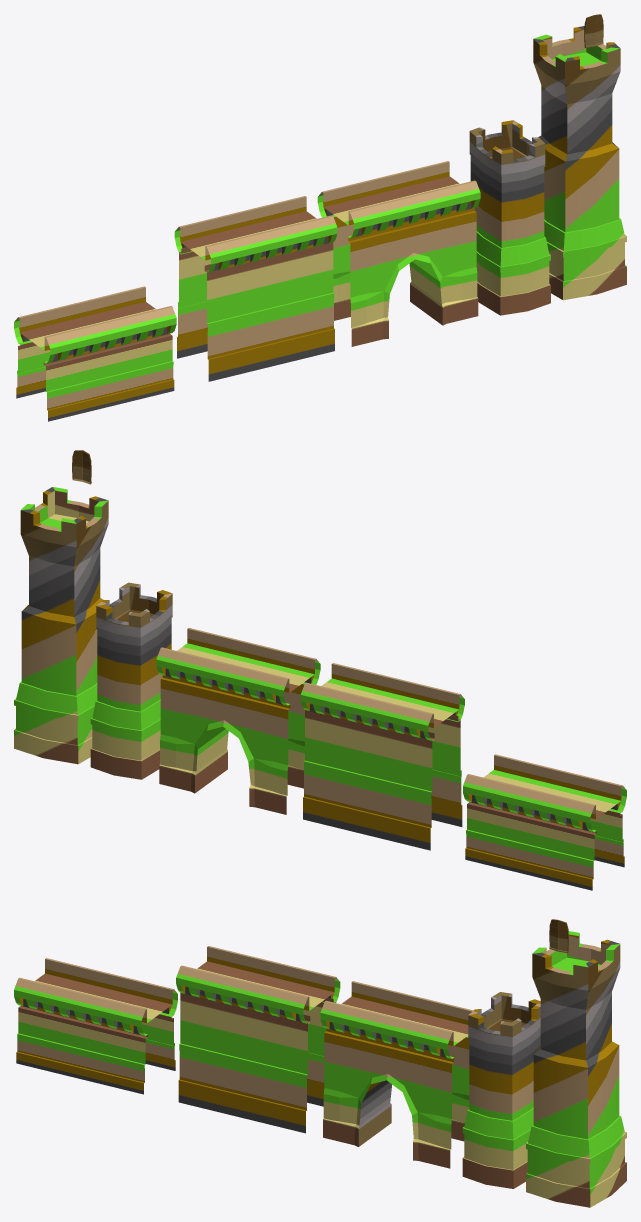
The model's file is Mesh_Walls.fbx.
The picture shows the model from 3 angles, top to bottom: view 1: azimuth 30°, elevation 25°; view 2: azimuth 150°, elevation 25°; view 3: azimuth 330°, elevation 25°; orthographic projection.
Visible parts, largest first — view 1: Wall_Big, Wall_Gate, Wall_Tower, Wall_Small, Wall_Pillar, Wall_Tower_Window; view 2: Wall_Big, Wall_Gate, Wall_Tower, Wall_Small, Wall_Pillar, Wall_Tower_Window; view 3: Wall_Big, Wall_Tower, Wall_Gate, Wall_Small, Wall_Pillar, Wall_Tower_Window.
Boxes of the visible parts, box(x1,y1,x2,y2) form: Wall_Big: box(174, 196, 337, 381); Wall_Gate: box(317, 161, 480, 346); Wall_Tower: box(533, 26, 626, 300); Wall_Small: box(14, 286, 176, 421); Wall_Pillar: box(469, 120, 550, 315); Wall_Tower_Window: box(584, 14, 603, 47); Wall_Big: box(300, 663, 464, 850); Wall_Gate: box(156, 628, 320, 814); Wall_Tower: box(14, 487, 108, 764); Wall_Small: box(463, 754, 626, 890); Wall_Pillar: box(90, 582, 172, 779); Wall_Tower_Window: box(72, 450, 91, 484); Wall_Big: box(176, 946, 340, 1133); Wall_Tower: box(526, 931, 626, 1207); Wall_Gate: box(320, 981, 473, 1168); Wall_Small: box(14, 958, 177, 1094); Wall_Pillar: box(462, 992, 540, 1188); Wall_Tower_Window: box(549, 919, 568, 953).
Bounding box in the file's own units: 6431 × 2956 × 800.
